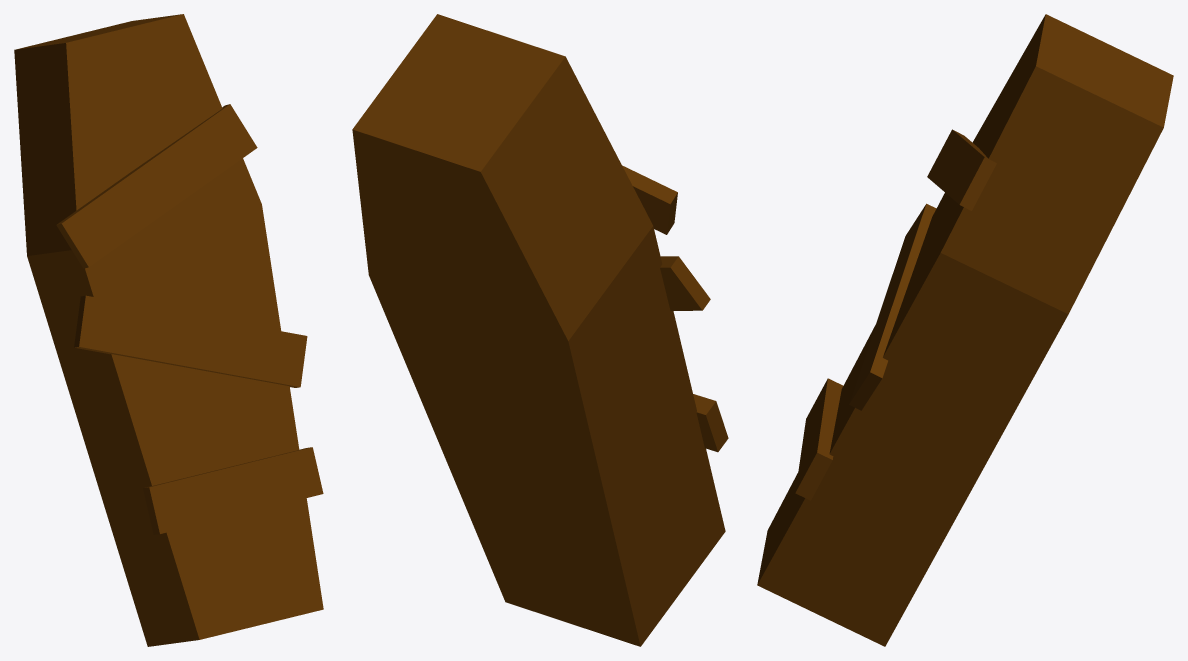
The model's file is CASKET.fbx.
3 renders of one model, left to right at view 1: azimuth 30°, elevation 25°; view 2: azimuth 150°, elevation 25°; view 3: azimuth 270°, elevation 25°, orthographic. The views are drawn at different scales.
Visible parts, largest first — view 1: Casket; view 2: Casket; view 3: Casket.
Part boxes in pixels (x1,y1,x2,y2): Casket: [14, 14, 323, 646]; Casket: [352, 14, 728, 646]; Casket: [757, 14, 1173, 646].
Size of the model in its own units: 0.9668 by 2.43 by 1.59.
